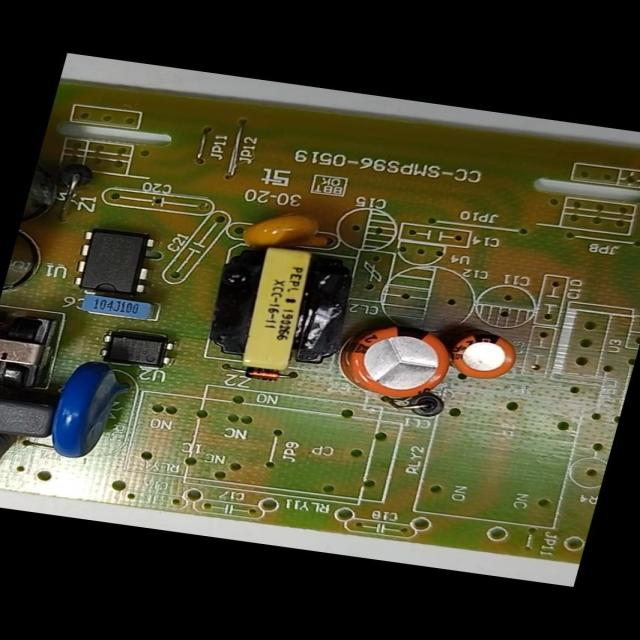Cap1: (325, 306, 464, 413)
Cap2: (427, 318, 530, 389)
Cap3: (0, 220, 63, 309)
Cap4: (21, 144, 72, 227)
MOSFET: (58, 216, 165, 310)
Mov: (32, 348, 152, 474)
Resistor: (0, 426, 31, 488)
Transformer: (192, 233, 366, 391), (0, 305, 73, 404)
